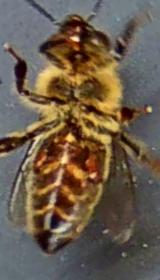varroa_mite: (69, 145, 118, 184), (24, 145, 54, 172)
